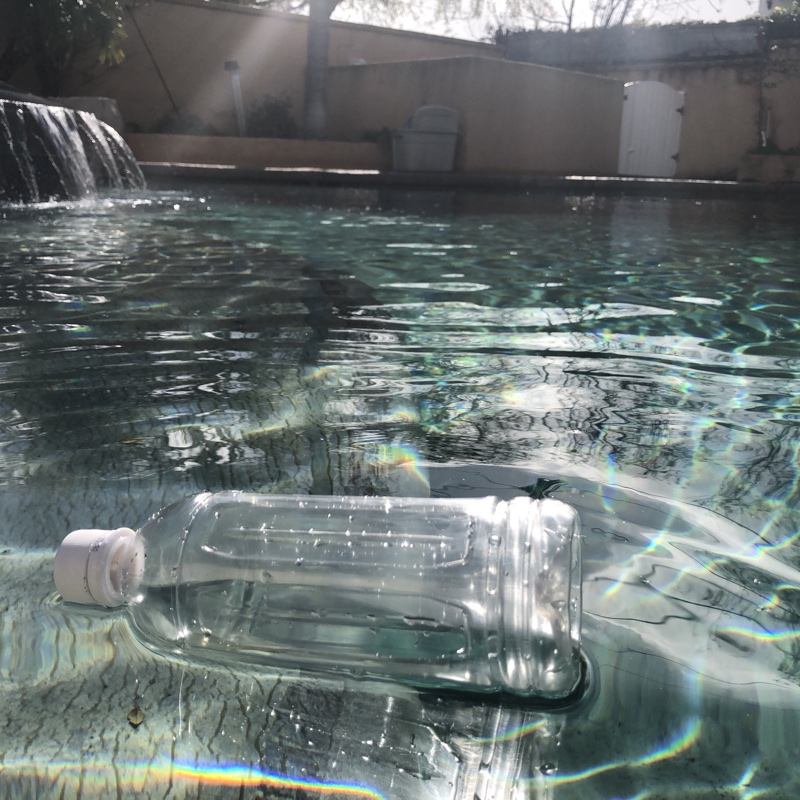Plastic Bottle: (43, 483, 590, 718)
